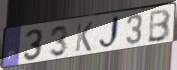3: (22, 28, 46, 63), (49, 24, 70, 59), (125, 12, 145, 47)
B: (147, 8, 172, 44)
J: (97, 14, 121, 52)
K: (74, 21, 94, 53)
